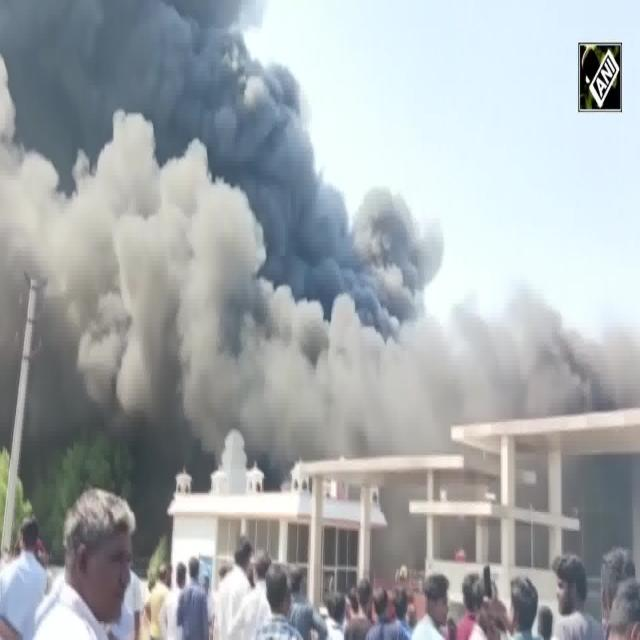smoke: (51, 54, 256, 399), (294, 235, 416, 436), (464, 318, 614, 404)
